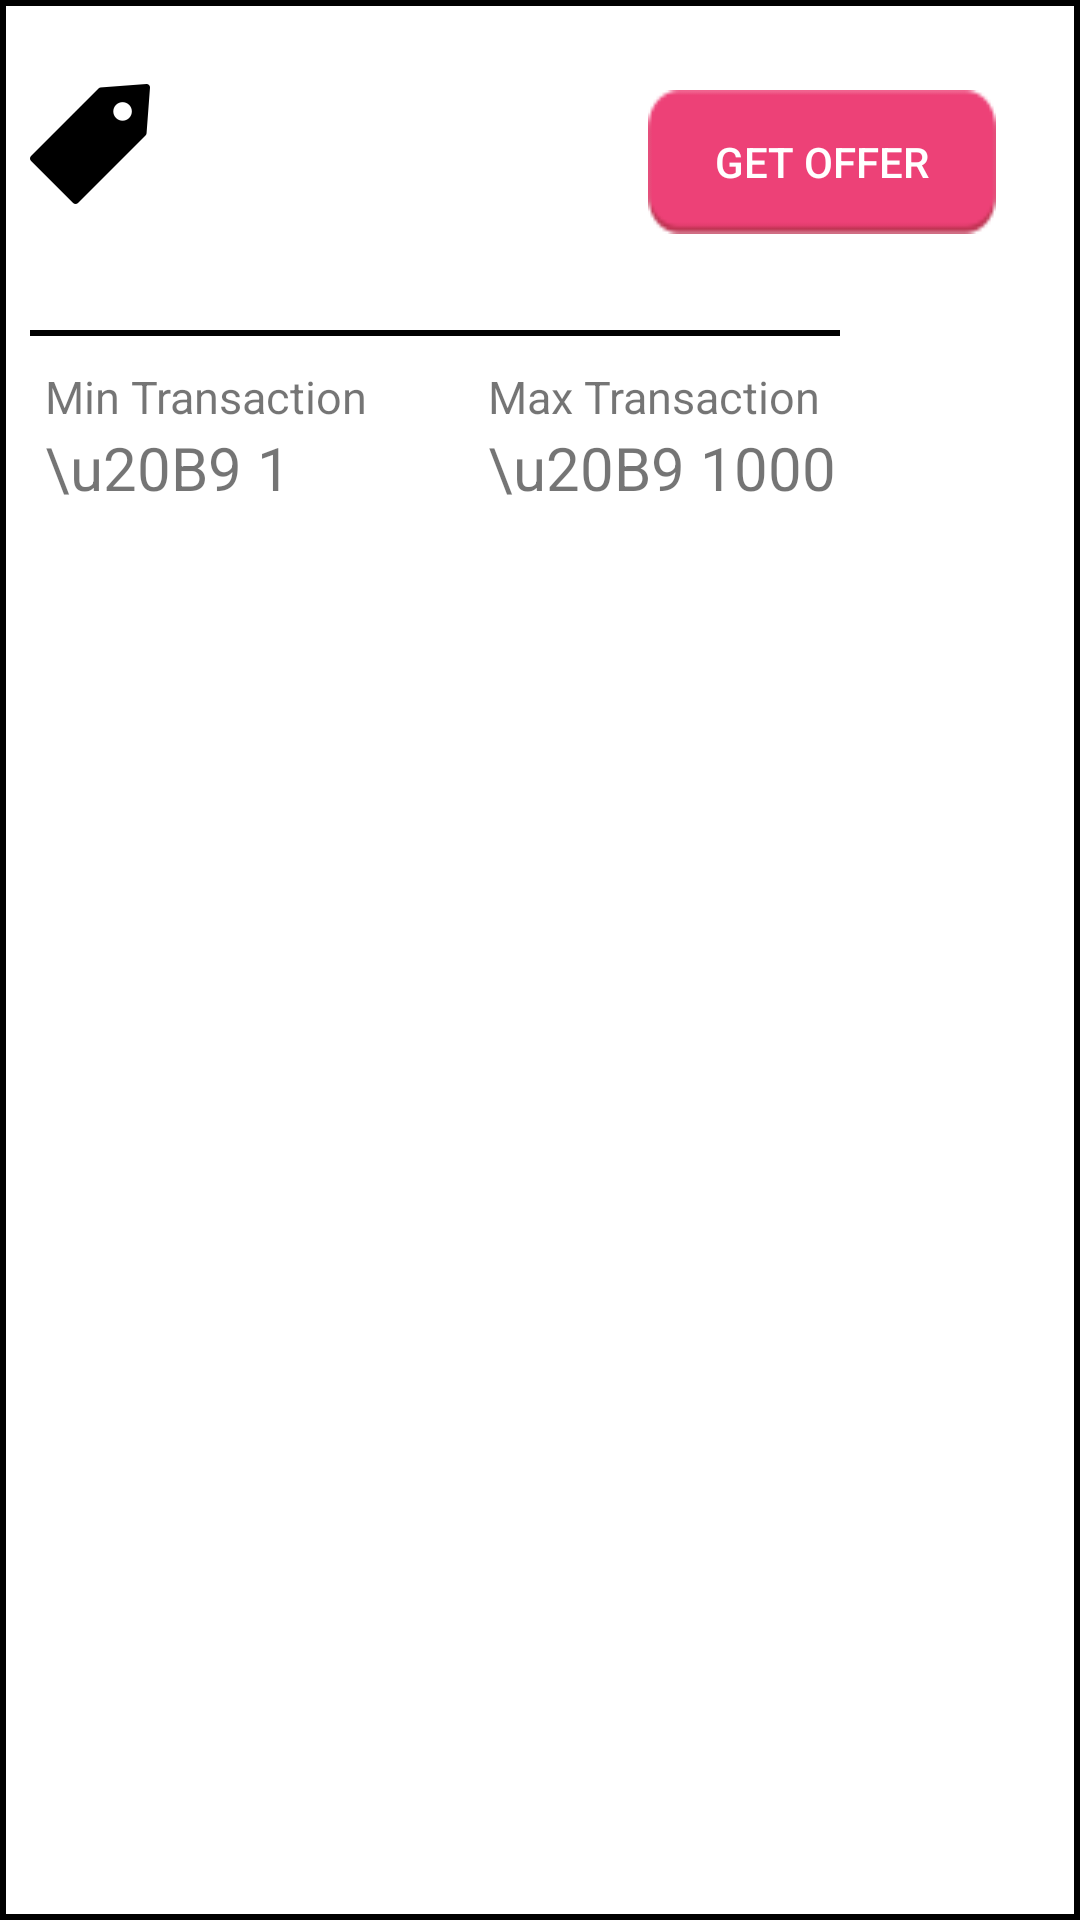

Screen size 1080×1920. Icon name, then its box in pixels as (x1, y1, x2, y2):
offerd: (30, 84, 150, 204)
